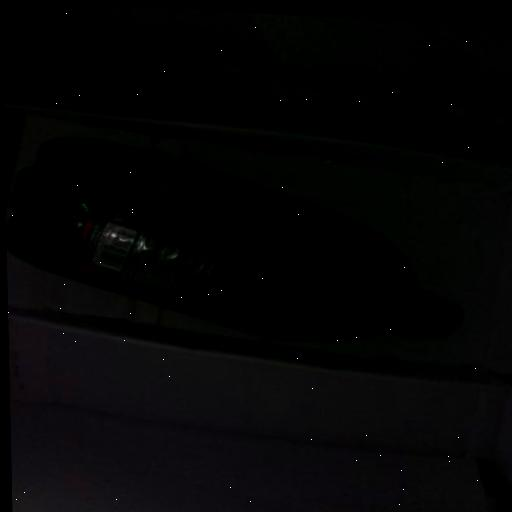ba: (9, 118, 476, 387)
